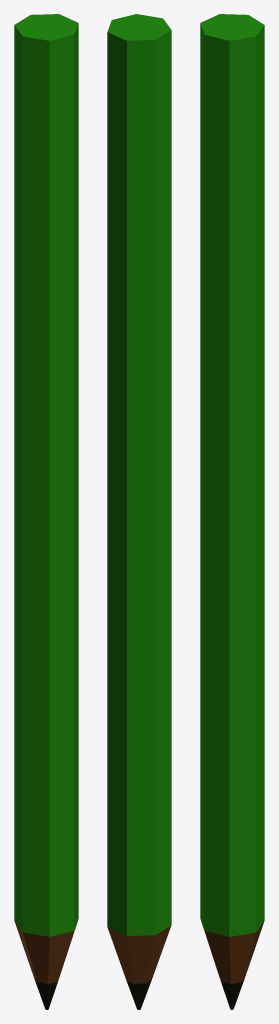
The model's file is pencilgreen.fbx.
The picture shows the model from 3 angles, left to right: view 1: azimuth 30°, elevation 25°; view 2: azimuth 210°, elevation 25°; view 3: azimuth 330°, elevation 25°; orthographic projection.
Parts seen in each view (by area): view 1: Cylinder, Cylinder.001, Cylinder.002; view 2: Cylinder, Cylinder.001, Cylinder.002; view 3: Cylinder, Cylinder.001, Cylinder.002.
Part boxes in pixels (box(x1,y1,x2,y2)): Cylinder: box(14, 14, 78, 936); Cylinder.001: box(15, 922, 76, 983); Cylinder.002: box(34, 978, 57, 1009); Cylinder: box(107, 14, 171, 935); Cylinder.001: box(107, 926, 170, 983); Cylinder.002: box(126, 980, 151, 1009); Cylinder: box(200, 14, 264, 936); Cylinder.001: box(202, 922, 263, 983); Cylinder.002: box(221, 978, 244, 1009).
Bounding box in the file's own units: 0.9749 × 16.44 × 0.9505.
